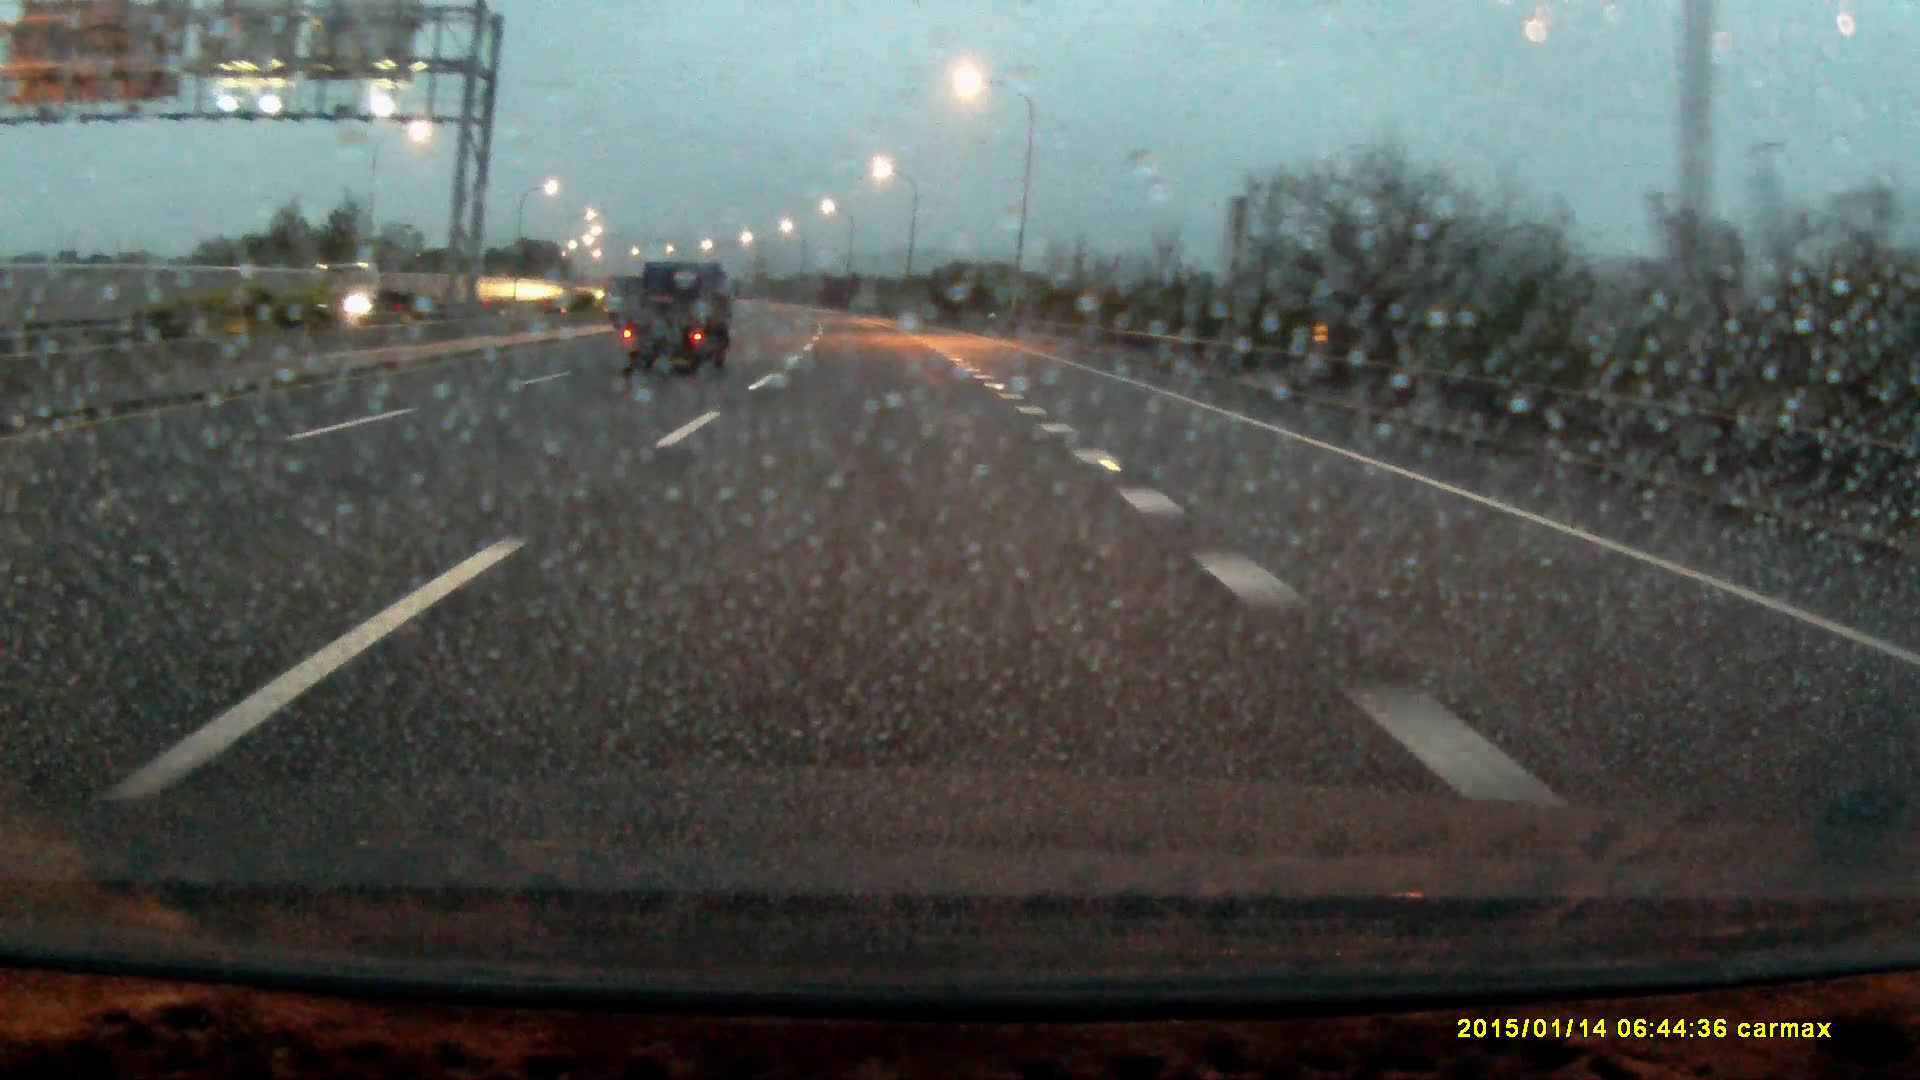vehicle: (618, 262, 735, 381), (305, 260, 435, 322)
